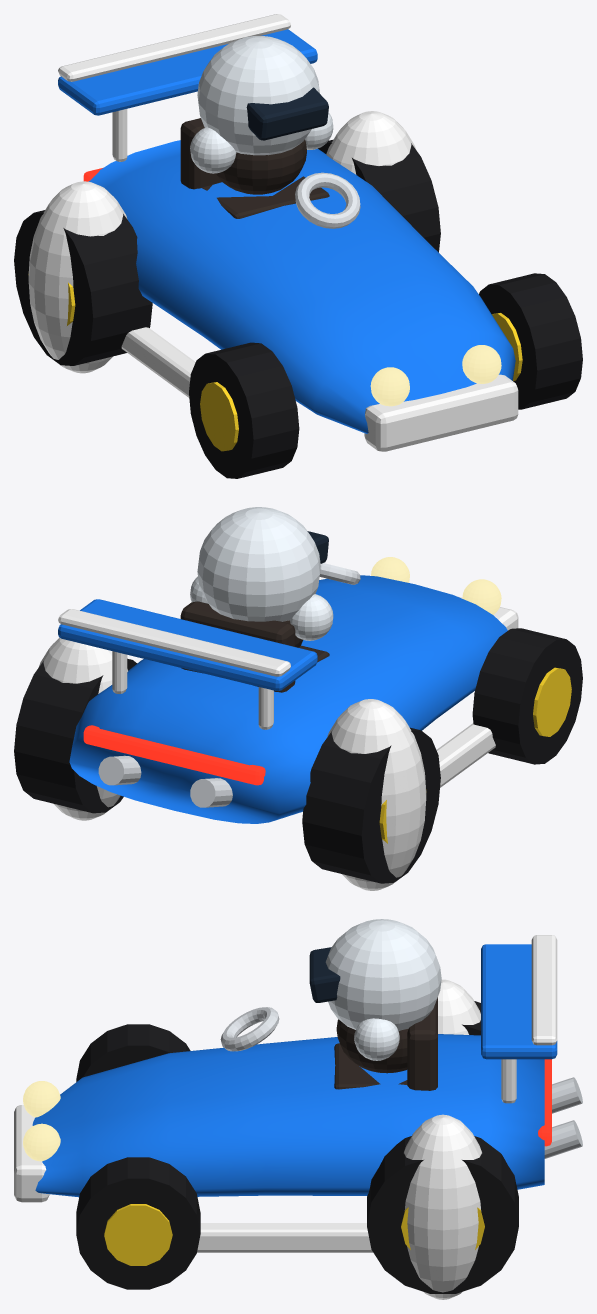
The model's file is kart1.glb.
3 views of the same model, one above another, from view 1: azimuth 30°, elevation 25°; view 2: azimuth 150°, elevation 25°; view 3: azimuth 270°, elevation 25° (orthographic). The views are drawn at different scales.
Parts seen in each view (by area): view 1: Body, TireRR, TireFR, Head, TireFL, Fender.001, Bumper, SpoWing, SpoTop, TireRL, Fender, Torso (+11 smaller); view 2: Body, TireRR, Head, TireFR, TireRL, Fender.001, SpoWing, SpoTop, TailBar, Fender, SeatBack, HubFR (+9 smaller); view 3: Body, Fender, TireFL, TireRL, Head, SpoWing, Skirt, TireFR, HubFL, SpoTop, SeatBack, Bumper (+12 smaller).
Part boxes in pixels (bbox=[...]): Body: bbox=[88, 140, 515, 433]; TireRR: bbox=[14, 210, 152, 365]; TireFR: bbox=[189, 342, 299, 478]; Head: bbox=[197, 36, 319, 155]; TireFL: bbox=[479, 273, 582, 409]; Fender.001: bbox=[28, 181, 127, 373]; Bumper: bbox=[364, 374, 518, 451]; SpoWing: bbox=[58, 29, 317, 115]; SpoTop: bbox=[58, 14, 290, 81]; TireRL: bbox=[318, 140, 440, 252]; Fender: bbox=[326, 111, 416, 174]; Torso: bbox=[215, 139, 306, 194]; Body: bbox=[69, 575, 507, 823]; TireRR: bbox=[302, 727, 440, 883]; Head: bbox=[197, 507, 320, 621]; TireFR: bbox=[472, 628, 582, 764]; TireRL: bbox=[14, 658, 137, 813]; Fender.001: bbox=[327, 699, 426, 890]; SpoWing: bbox=[58, 599, 317, 690]; SpoTop: bbox=[58, 609, 290, 676]; TailBar: bbox=[83, 725, 265, 785]; Fender: bbox=[38, 637, 127, 820]; SeatBack: bbox=[180, 601, 295, 692]; HubFR: bbox=[533, 667, 571, 736]; Body: bbox=[32, 1034, 544, 1197]; Fender: bbox=[404, 1114, 481, 1299]; TireFL: bbox=[76, 1157, 200, 1289]; TireRL: bbox=[367, 1136, 518, 1293]; Head: bbox=[325, 919, 441, 1030]; SpoWing: bbox=[481, 944, 557, 1059]; Skirt: bbox=[197, 1223, 372, 1252]; TireFR: bbox=[76, 1024, 190, 1081]; HubFL: bbox=[104, 1204, 172, 1265]; SpoTop: bbox=[531, 935, 557, 1045]; SeatBack: bbox=[407, 997, 437, 1090]; Bumper: bbox=[14, 1105, 49, 1202].
Bounding box in the file's own units: 1.69 × 1.32 × 2.24.
